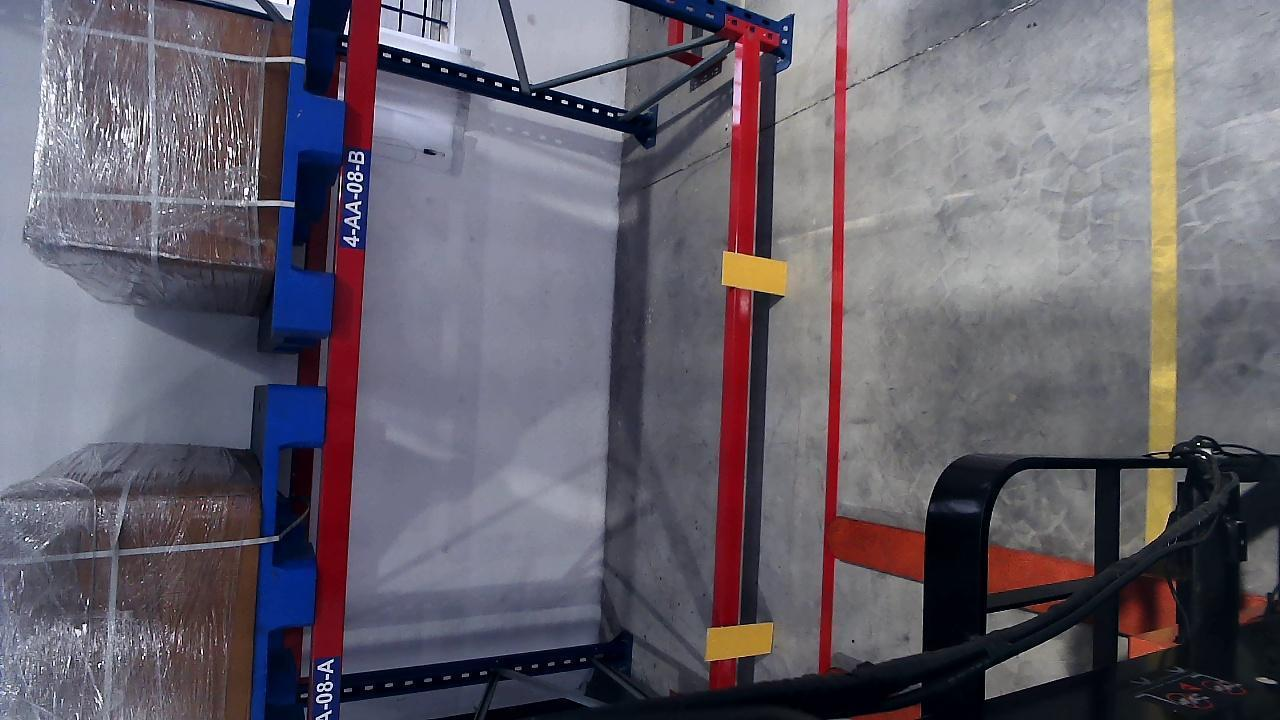red_line: (815, 2, 850, 676)
yellow_line: (1146, 6, 1182, 452)
